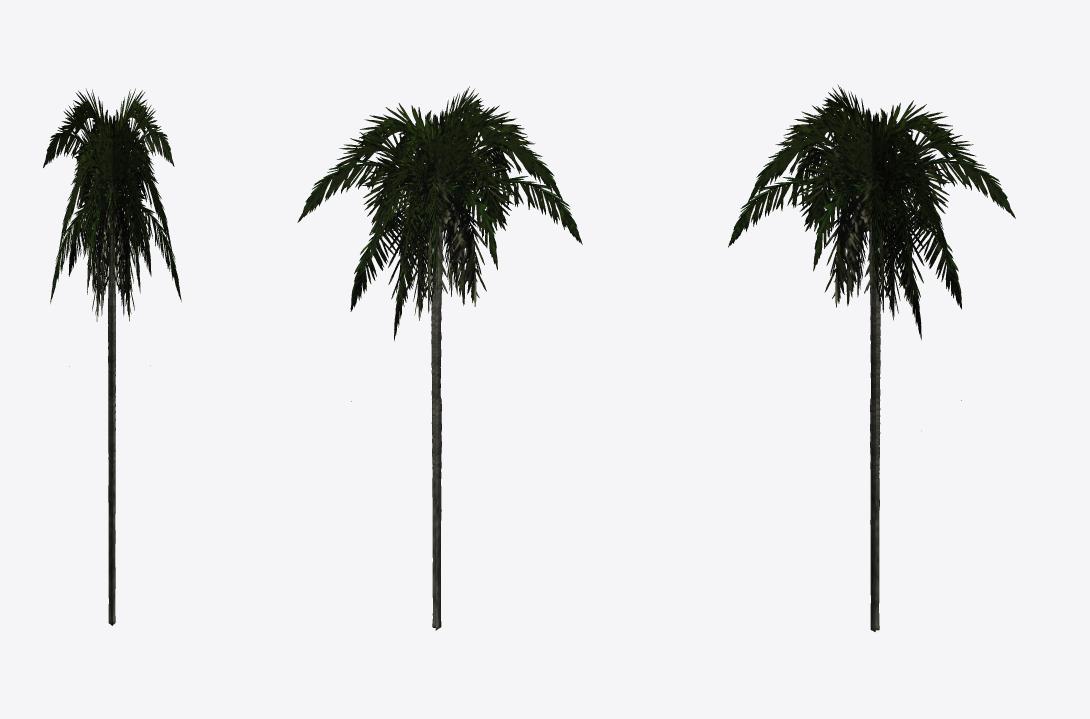
Rendered from Palmtrees_Low.fbx.
3 views of the same model, side by side, from view 1: azimuth 30°, elevation 25°; view 2: azimuth 150°, elevation 25°; view 3: azimuth 270°, elevation 25° (orthographic).
Parts seen in each view (by area): view 1: Palmtree_Low5; view 2: Palmtree_Low5; view 3: Palmtree_Low5.
Boxes of the visible parts, left/top/right/bottom form: Palmtree_Low5: left=43, top=88, right=181, bottom=625; Palmtree_Low5: left=297, top=86, right=582, bottom=630; Palmtree_Low5: left=728, top=84, right=1015, bottom=631.
Bounding box in the file's own units: 10.62 × 19.06 × 12.81.
1 material, 1 textured.
